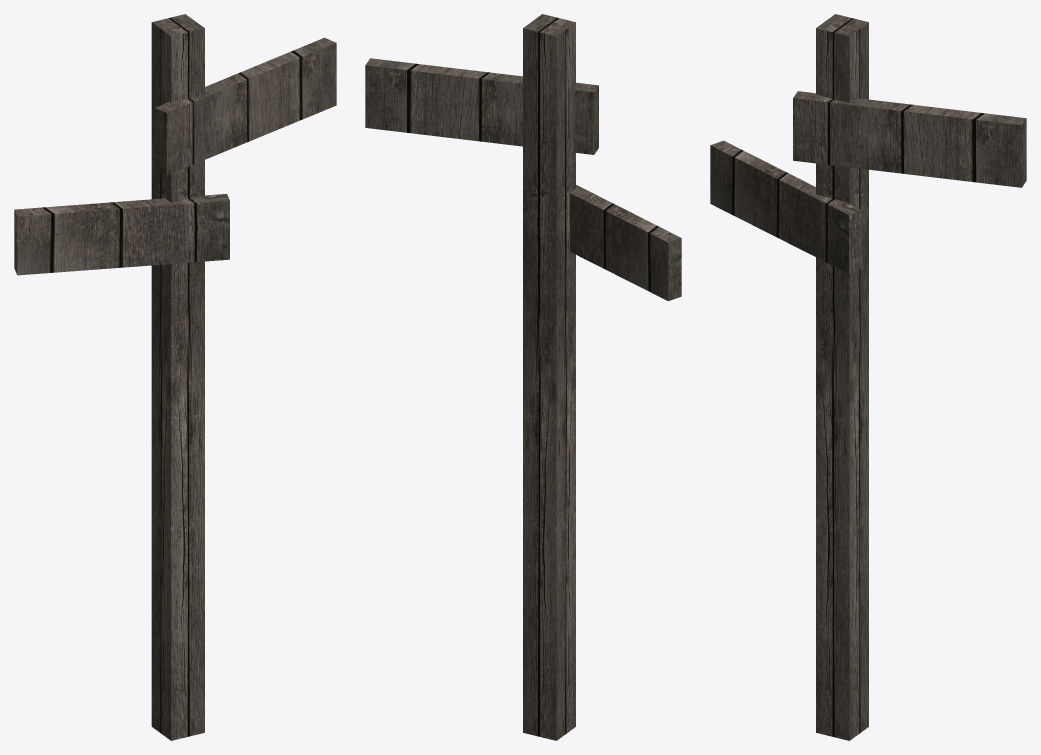
File: Prop_SignPost.fbx
The picture shows the model from 3 angles, left to right: view 1: azimuth 30°, elevation 25°; view 2: azimuth 150°, elevation 25°; view 3: azimuth 330°, elevation 25°; orthographic projection.
Parts seen in each view (by area): view 1: SignPost_Mesh; view 2: SignPost_Mesh; view 3: SignPost_Mesh.
Boxes of the visible parts, bbox=[...] form: SignPost_Mesh: bbox=[14, 14, 336, 740]; SignPost_Mesh: bbox=[365, 14, 681, 740]; SignPost_Mesh: bbox=[710, 14, 1026, 740].
Size of the model in its own units: 0.8431 by 1.8 by 0.209.
Materials: 1 (1 with a texture image).
